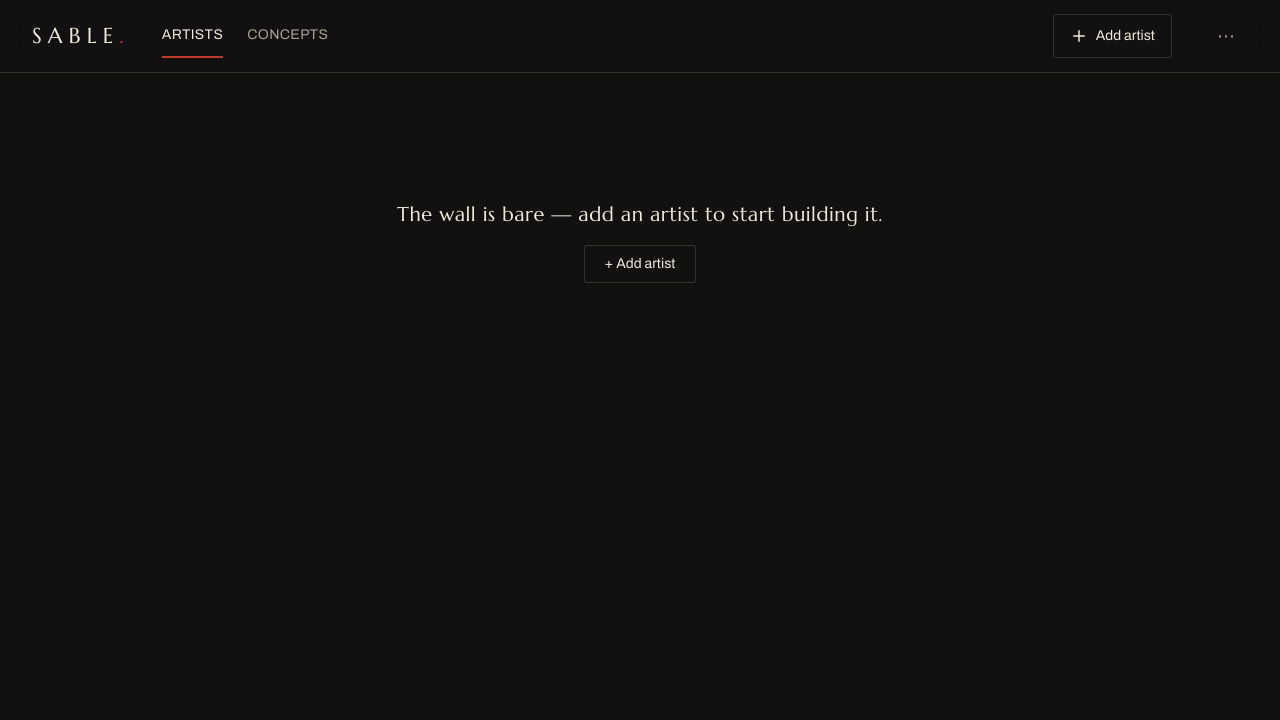
Test case: Wall page › renders an empty state with an add-artist CTA that opens the quick-add modal
Click the button "+ Add artist" at (640, 264), box [584,245,696,283]
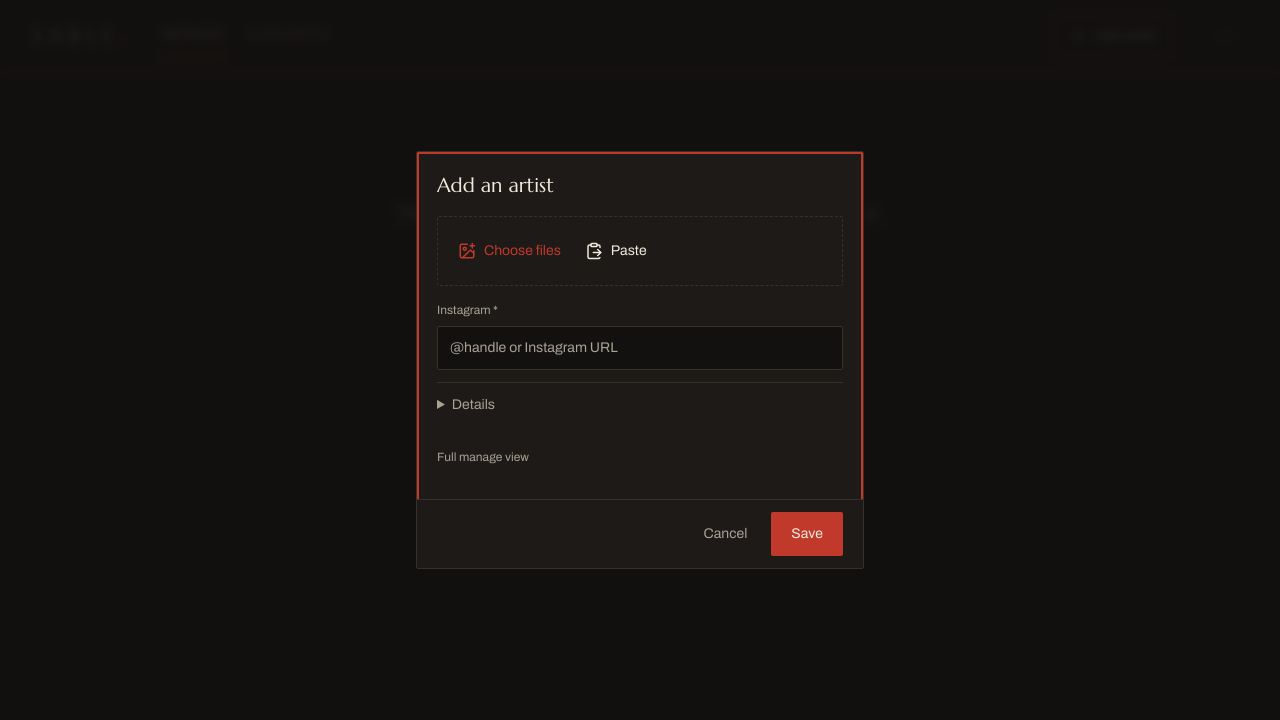
Check: the heading "Add an artist" is shown, box [437,173,554,198]
